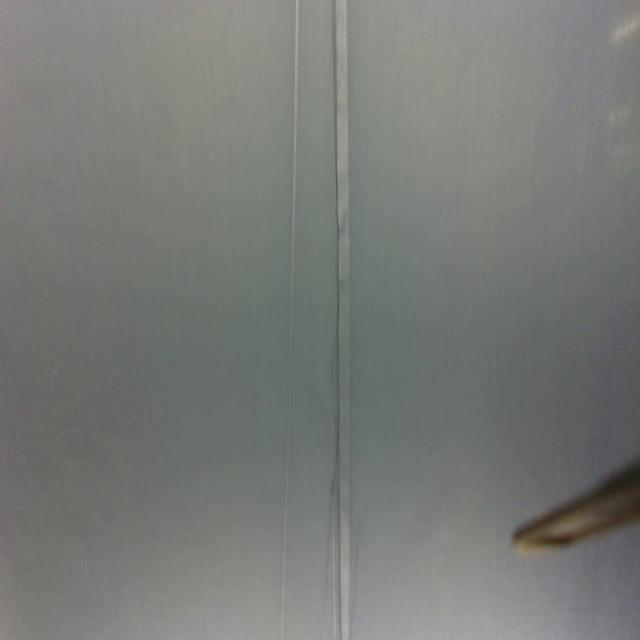crease: (332, 0, 356, 639), (279, 3, 301, 640)
